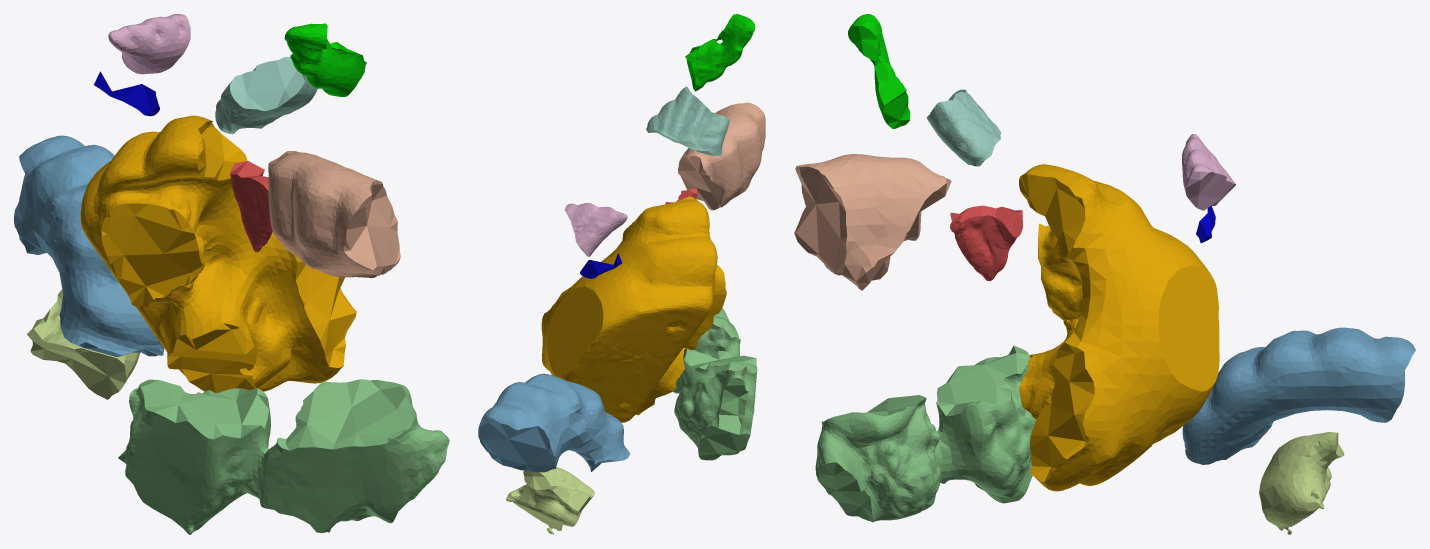
File: fractured_34_12pcs_transformed.glb
The picture shows the model from 3 angles, left to right: view 1: azimuth 30°, elevation 25°; view 2: azimuth 150°, elevation 25°; view 3: azimuth 270°, elevation 25°; orthographic projection. The views are drawn at different scales.
Parts seen in each view (by area): view 1: piece_0.obj, piece_3.obj, piece_2.obj, piece_7.obj, piece_4.obj, piece_5.obj, piece_8.obj, piece_6.obj, piece_1.obj, piece_10.obj; view 2: piece_0.obj, piece_2.obj, piece_3.obj, piece_7.obj, piece_5.obj, piece_4.obj, piece_8.obj, piece_6.obj, piece_10.obj; view 3: piece_0.obj, piece_3.obj, piece_2.obj, piece_7.obj, piece_5.obj, piece_1.obj, piece_4.obj, piece_8.obj, piece_6.obj.
Boxes of the visible parts, x1,y1,x2,y2 form: piece_0.obj: [80, 115, 356, 392]; piece_3.obj: [118, 379, 449, 534]; piece_2.obj: [14, 135, 164, 356]; piece_7.obj: [268, 151, 400, 278]; piece_4.obj: [215, 57, 317, 134]; piece_5.obj: [27, 289, 140, 399]; piece_8.obj: [284, 23, 366, 96]; piece_6.obj: [108, 14, 190, 74]; piece_1.obj: [230, 161, 272, 252]; piece_10.obj: [94, 71, 159, 116]; piece_0.obj: [541, 196, 726, 422]; piece_2.obj: [478, 373, 630, 472]; piece_3.obj: [673, 308, 757, 460]; piece_7.obj: [678, 102, 765, 210]; piece_5.obj: [506, 467, 594, 534]; piece_4.obj: [646, 86, 729, 155]; piece_8.obj: [685, 14, 755, 91]; piece_6.obj: [564, 203, 627, 256]; piece_10.obj: [580, 253, 622, 278]; piece_0.obj: [1019, 164, 1219, 491]; piece_3.obj: [815, 345, 1036, 522]; piece_2.obj: [1182, 327, 1415, 464]; piece_7.obj: [794, 154, 951, 290]; piece_5.obj: [1259, 432, 1344, 534]; piece_1.obj: [950, 205, 1022, 281]; piece_4.obj: [926, 89, 1001, 166]; piece_8.obj: [848, 14, 910, 128]; piece_6.obj: [1182, 134, 1235, 210].
Size of the model in its own units: 0.6639 by 1.36 by 1.53.
